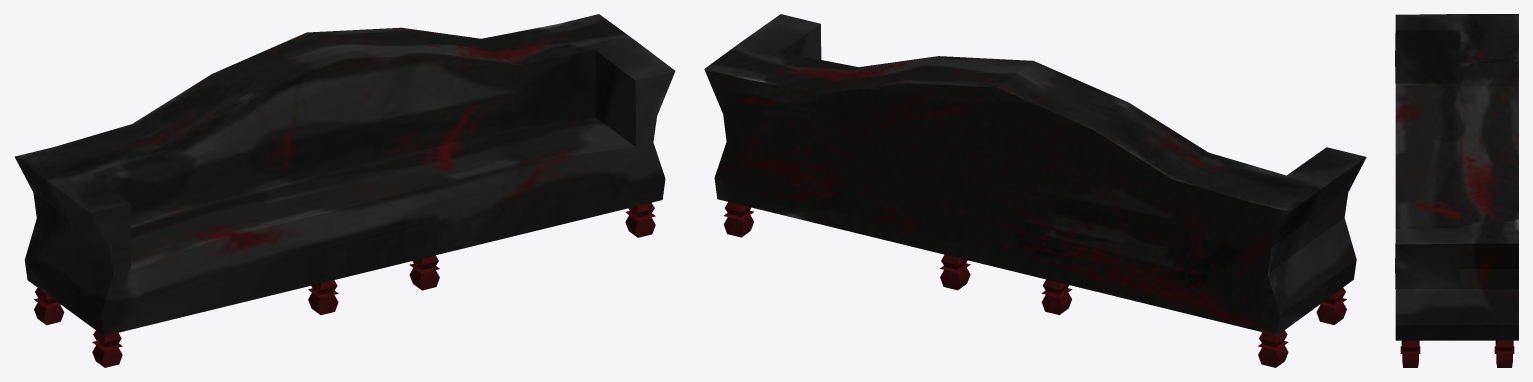
File: Livingroom_couch.fbx
3 views of the same model, side by side, from view 1: azimuth 30°, elevation 25°; view 2: azimuth 150°, elevation 25°; view 3: azimuth 270°, elevation 25° (orthographic). The views are drawn at different scales.
Parts seen in each view (by area): view 1: pCube12; view 2: pCube12; view 3: pCube12.
Boxes of the visible parts, x1=… form: pCube12: x1=15, y1=14, x2=675, y2=367; pCube12: x1=704, y1=14, x2=1366, y2=367; pCube12: x1=1395, y1=14, x2=1518, y2=367.
Size of the model in its own units: 0.1755 by 0.062 by 0.04.
